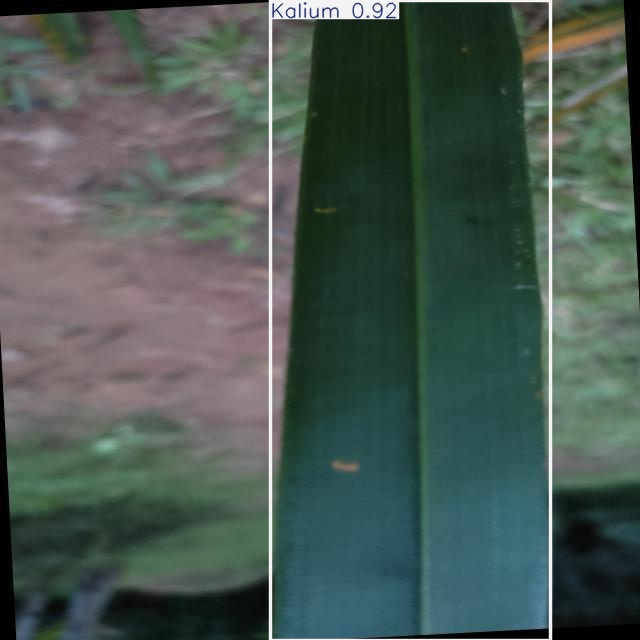Kalium: (271, 0, 551, 640)
